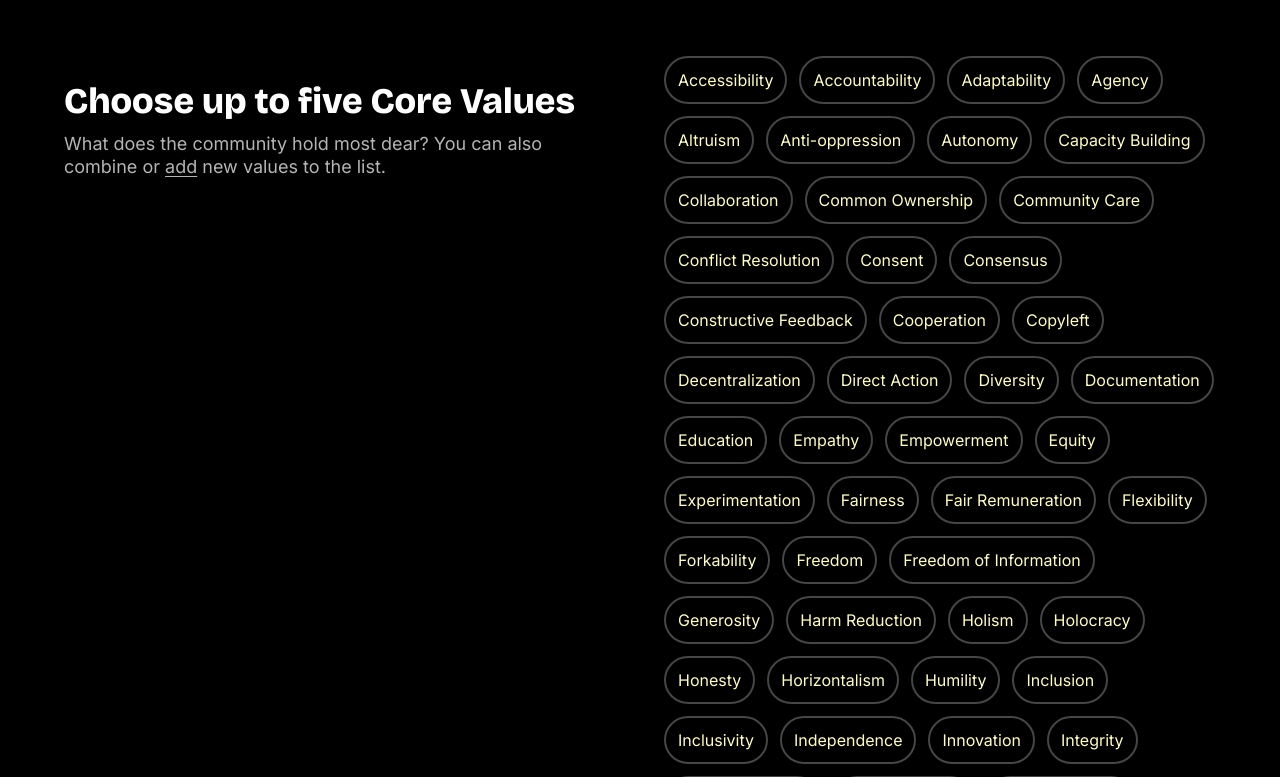
it: CoreValuesSelectScreen › opens core value detail modal when a preset chip is clicked
The width and height of the screenshot is (1280, 777).
What coordinates should you click on to do the following:
click the button "Accessibility"
I would click on:
 (726, 80)
Its box is [664, 56, 787, 104].
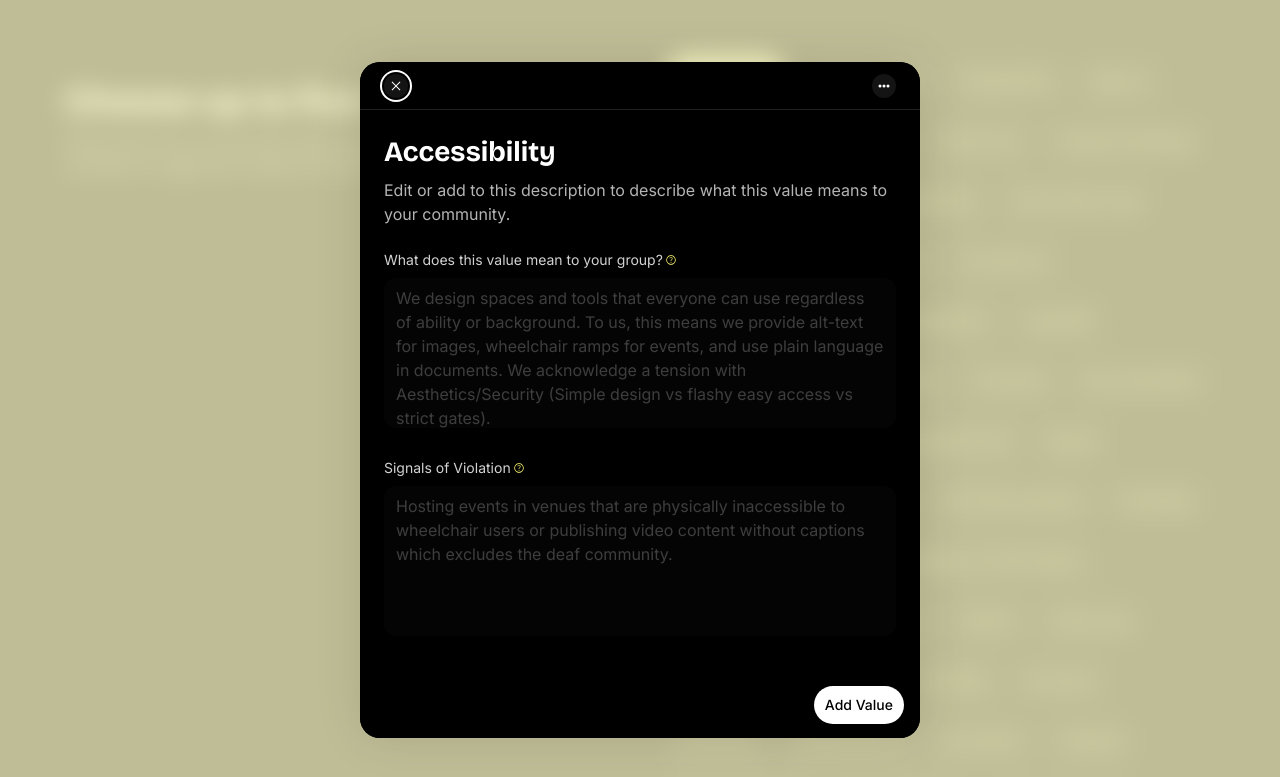
expect the button "Add Value" is shown: met, box [814, 686, 904, 724]
